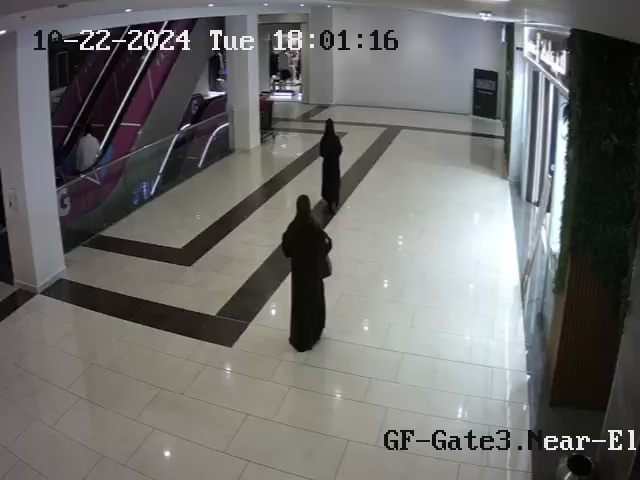female: (279, 185, 339, 357), (313, 114, 346, 220)
male: (75, 125, 109, 188)
